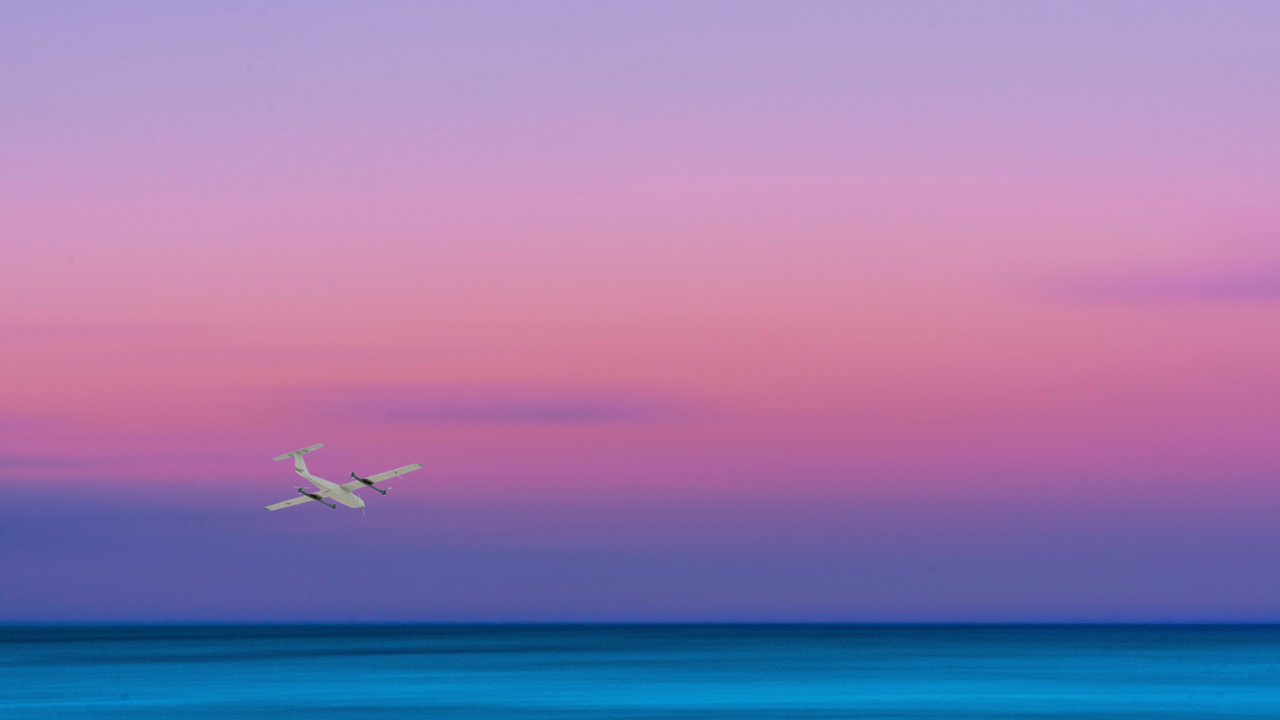military drone: (264, 442, 424, 511)
